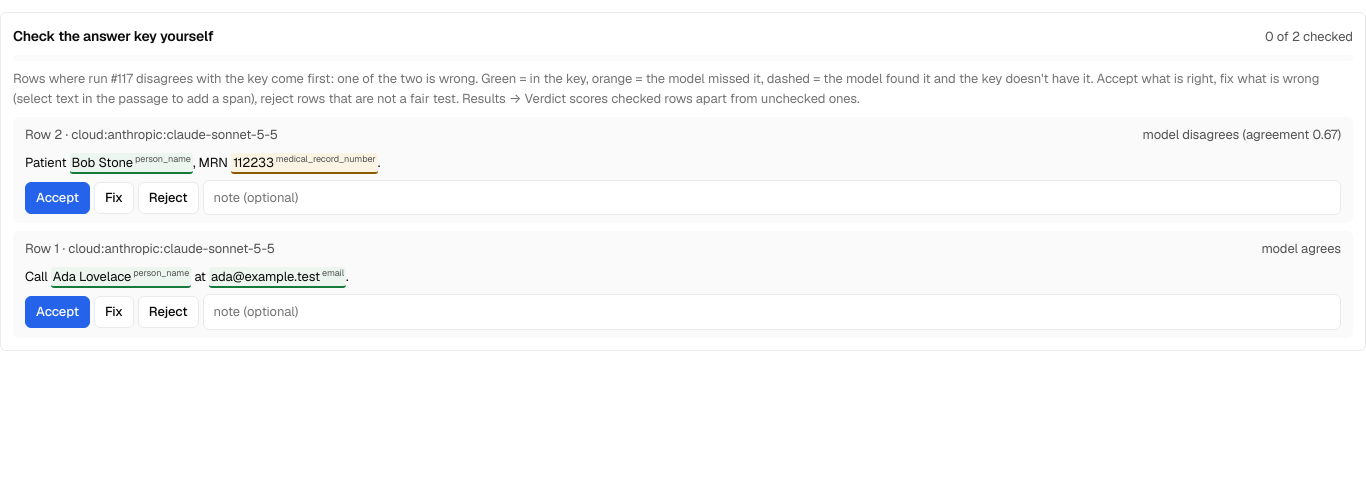
Test: AnswerKeyReviewPanel › fix edits the spans inline and saves a correction
Expected: the element with test id "akr-row-1" is shown, [13,117,1353,224]
Click the button with test id "akr-fix-1".
click(114, 198)  # box [94,182,134,214]
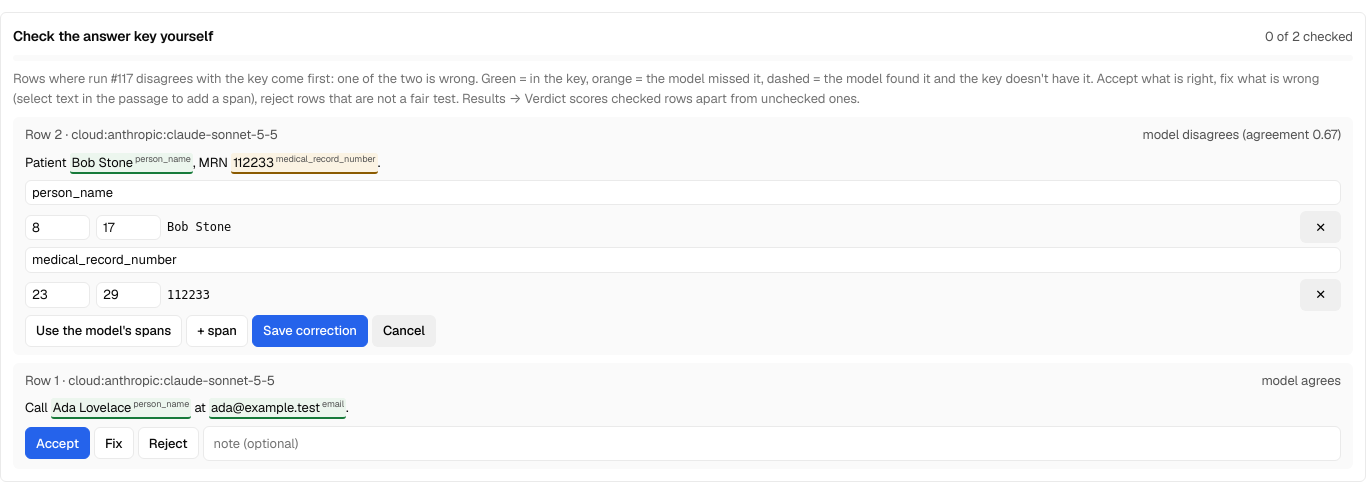
Now the number of elements with class "akr__edit-row" is 2, box [25,180,1341,244]; [25,248,1341,311]
Drop the MRN (the second span), then save.
Click the button named "Remove span".
click(1321, 295)  # box [1300,279,1341,311]
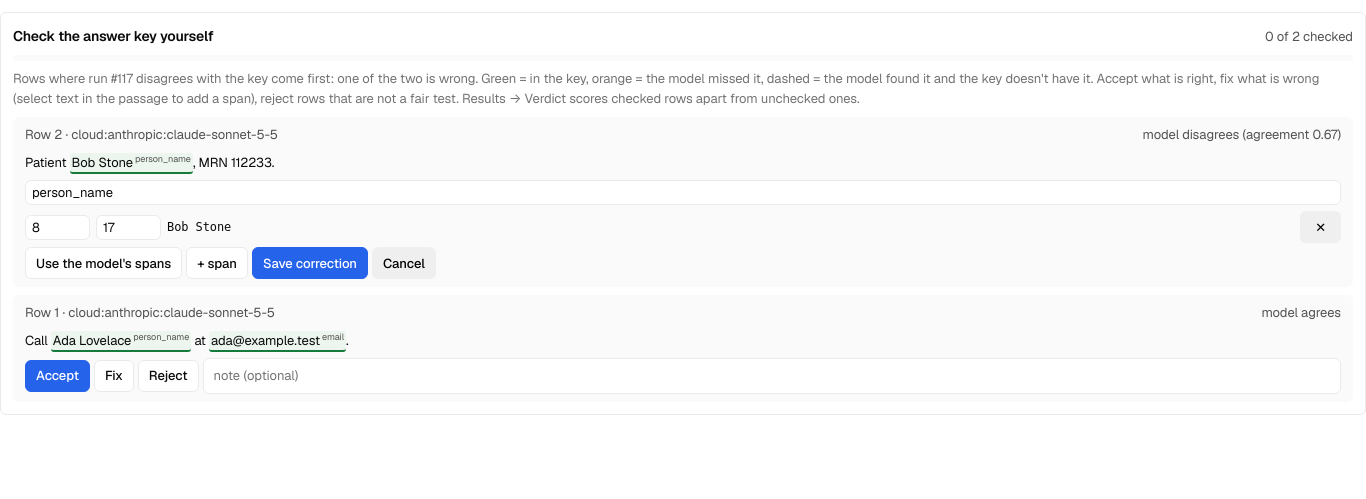
Now the number of elements with class "akr__edit-row" is 1, box [25,180,1341,244]
Click the button with test id "akr-save-1".
click(310, 264)  # box [252,248,368,280]
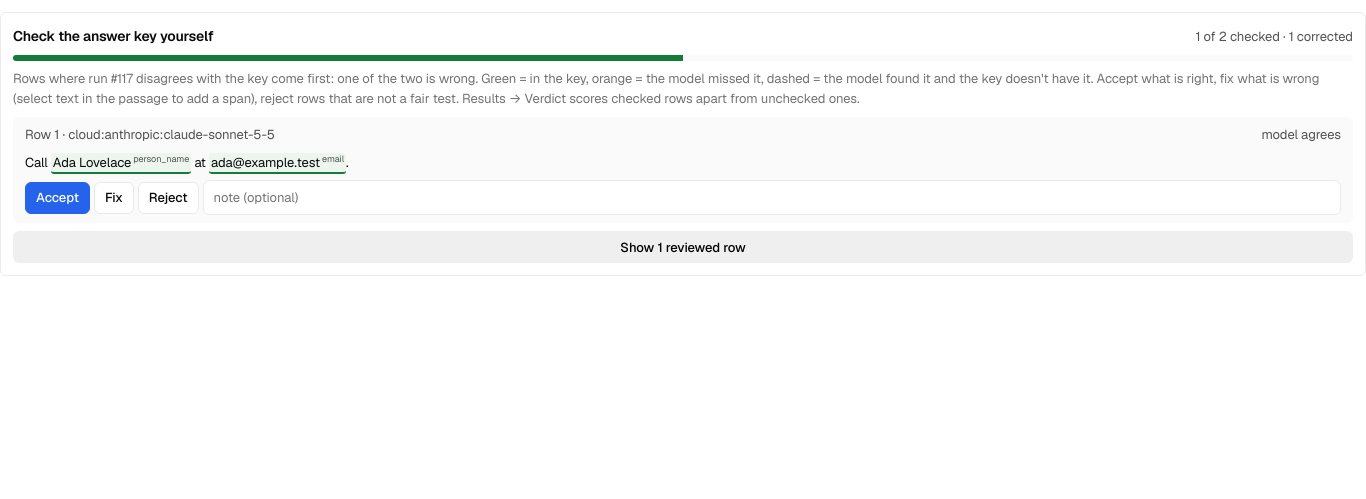
Now the text with test id "akr-progress" shows "1 corrected", box [1195,28,1353,45]
